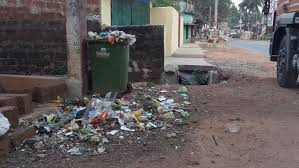garbage: (58, 94, 191, 136), (42, 112, 120, 146)
